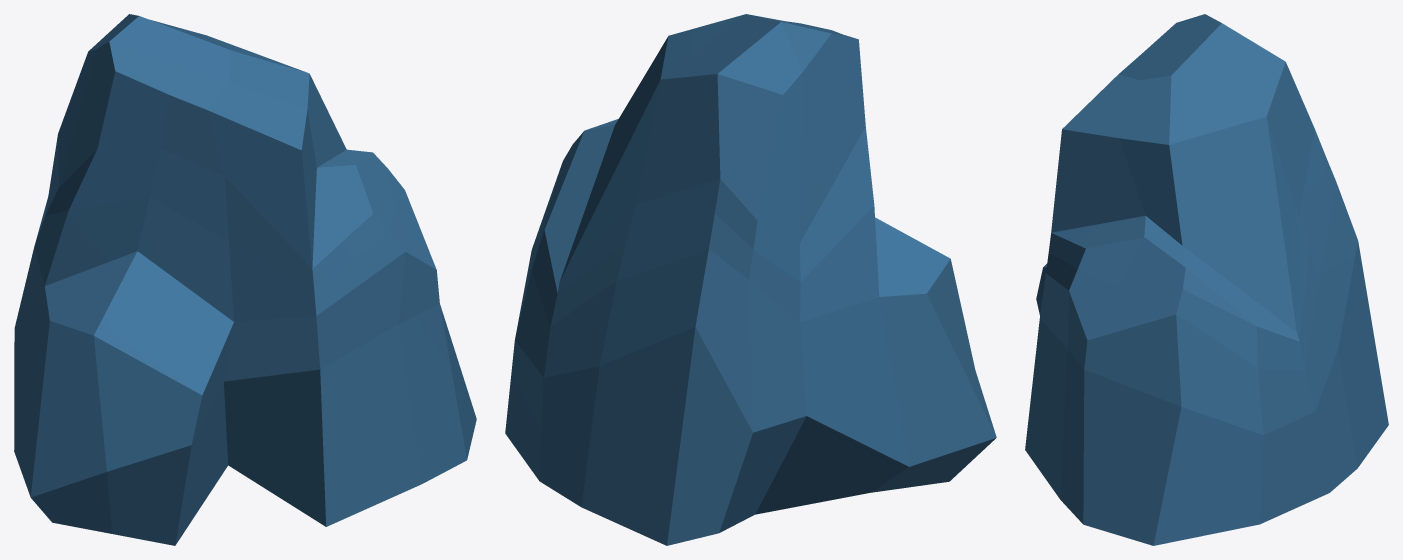
Rendered from SM_IceRock6.fbx.
3 renders of one model, left to right at view 1: azimuth 30°, elevation 25°; view 2: azimuth 150°, elevation 25°; view 3: azimuth 270°, elevation 25°, orthographic. The views are drawn at different scales.
Visible parts, largest first — view 1: SM_IceRock6; view 2: SM_IceRock6; view 3: SM_IceRock6.
Boxes of the visible parts, x1=… form: SM_IceRock6: x1=14, y1=14, x2=476, y2=545; SM_IceRock6: x1=505, y1=14, x2=996, y2=545; SM_IceRock6: x1=1025, y1=14, x2=1388, y2=545.
Bounding box in the file's own units: 194 × 181 × 152.
